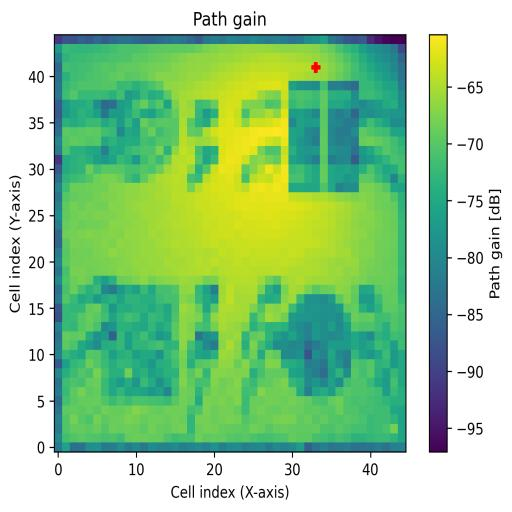Concrete: (288, 81, 359, 192)
Glass: (102, 80, 179, 183)
Metal: (282, 286, 374, 397)
Wood: (101, 284, 179, 406)
